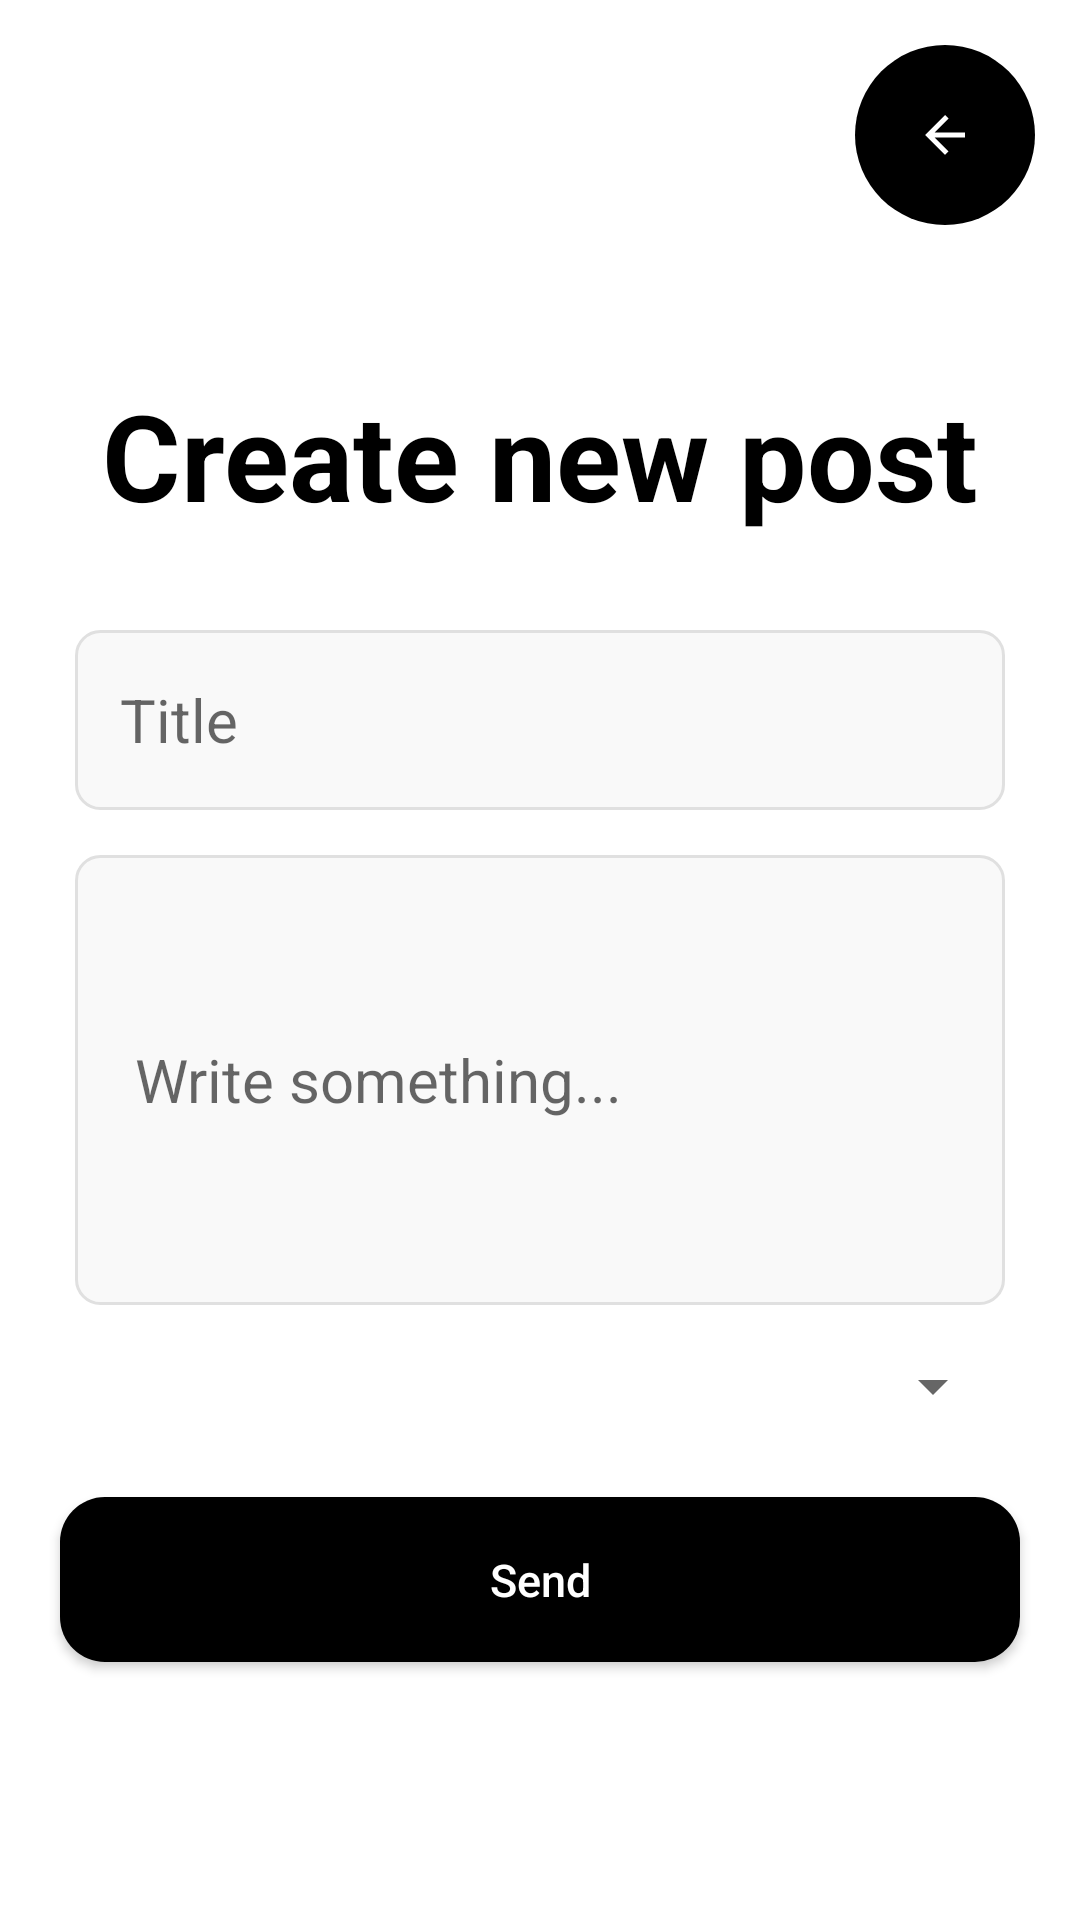

Where to tap for icons on this 1080px×1920px app screen, as (x=x, y=y):
Back: (x=945, y=135)
